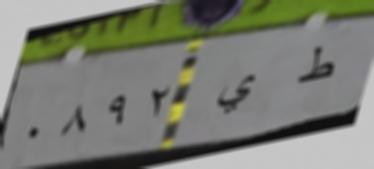0: (22, 106, 51, 158)
2: (144, 82, 174, 119)
8: (55, 97, 91, 146)
9: (104, 84, 136, 134)
Taa: (293, 36, 341, 96)
yaa: (212, 66, 262, 120)
